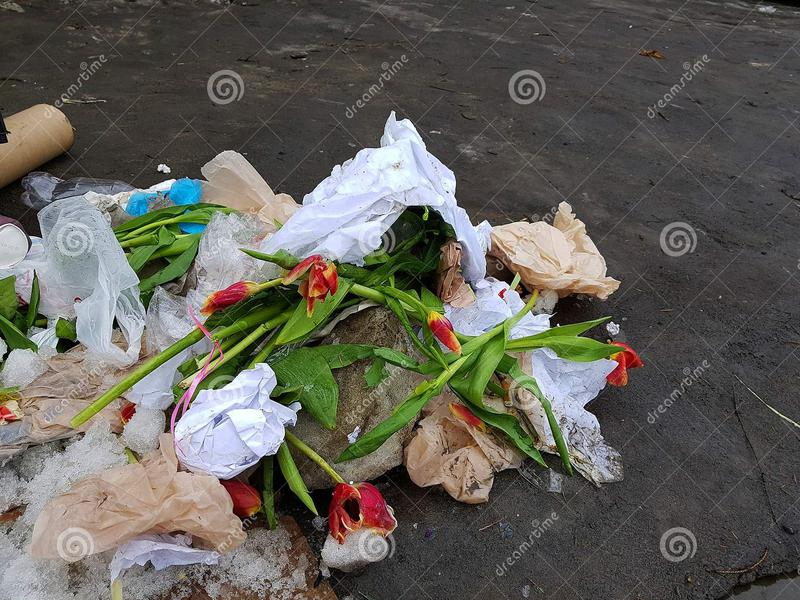flowers: (193, 249, 470, 356), (210, 480, 412, 544), (544, 315, 649, 384)
leaf: (454, 361, 544, 473), (329, 383, 447, 466), (266, 352, 347, 429)
paper: (258, 86, 492, 283), (488, 183, 631, 302), (171, 365, 309, 482)
plastic: (28, 434, 247, 557), (16, 195, 150, 369), (142, 213, 264, 349)
